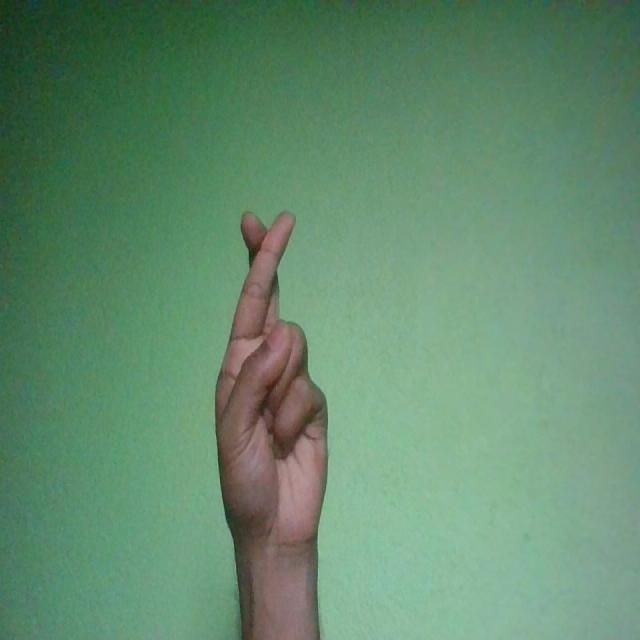Ok: (215, 212, 328, 556)
